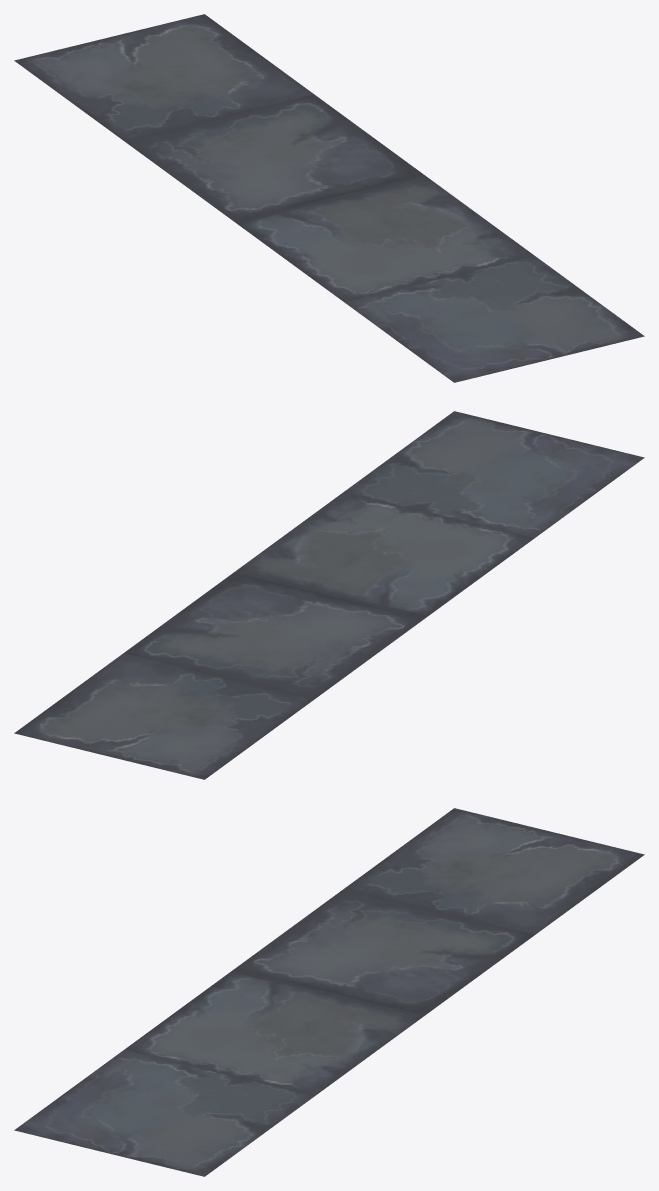
The model's file is Castle Ground + Dark 1x4.fbx.
3 renders of one model, top to bottom at view 1: azimuth 30°, elevation 25°; view 2: azimuth 150°, elevation 25°; view 3: azimuth 330°, elevation 25°, orthographic.
Visible parts, largest first — view 1: Castle Ground + Dark 1x4; view 2: Castle Ground + Dark 1x4; view 3: Castle Ground + Dark 1x4.
Part boxes in pixels (bbox=[...]): Castle Ground + Dark 1x4: bbox=[14, 14, 644, 382]; Castle Ground + Dark 1x4: bbox=[14, 411, 644, 779]; Castle Ground + Dark 1x4: bbox=[14, 808, 644, 1176].
Size of the model in its own units: 0.75 by 4.29e-07 by 3.
